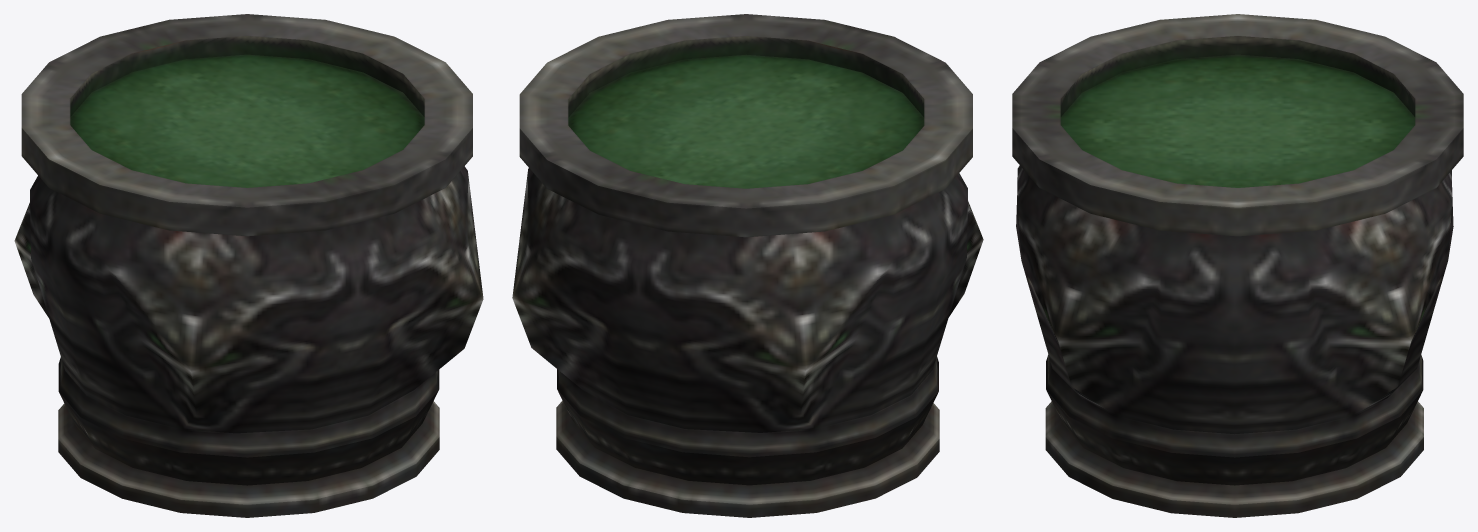
File: d_2416_jiguan.FBX
3 views of the same model, side by side, from view 1: azimuth 30°, elevation 25°; view 2: azimuth 150°, elevation 25°; view 3: azimuth 270°, elevation 25° (orthographic).
Parts seen in each view (by area): view 1: f_1001_tools01; view 2: f_1001_tools01; view 3: f_1001_tools01.
Part boxes in pixels (x1,y1,x2,y2): f_1001_tools01: (14, 14, 483, 517); f_1001_tools01: (512, 14, 983, 517); f_1001_tools01: (1012, 14, 1463, 517).
Bounding box in the file's own units: 165 × 129 × 162.
